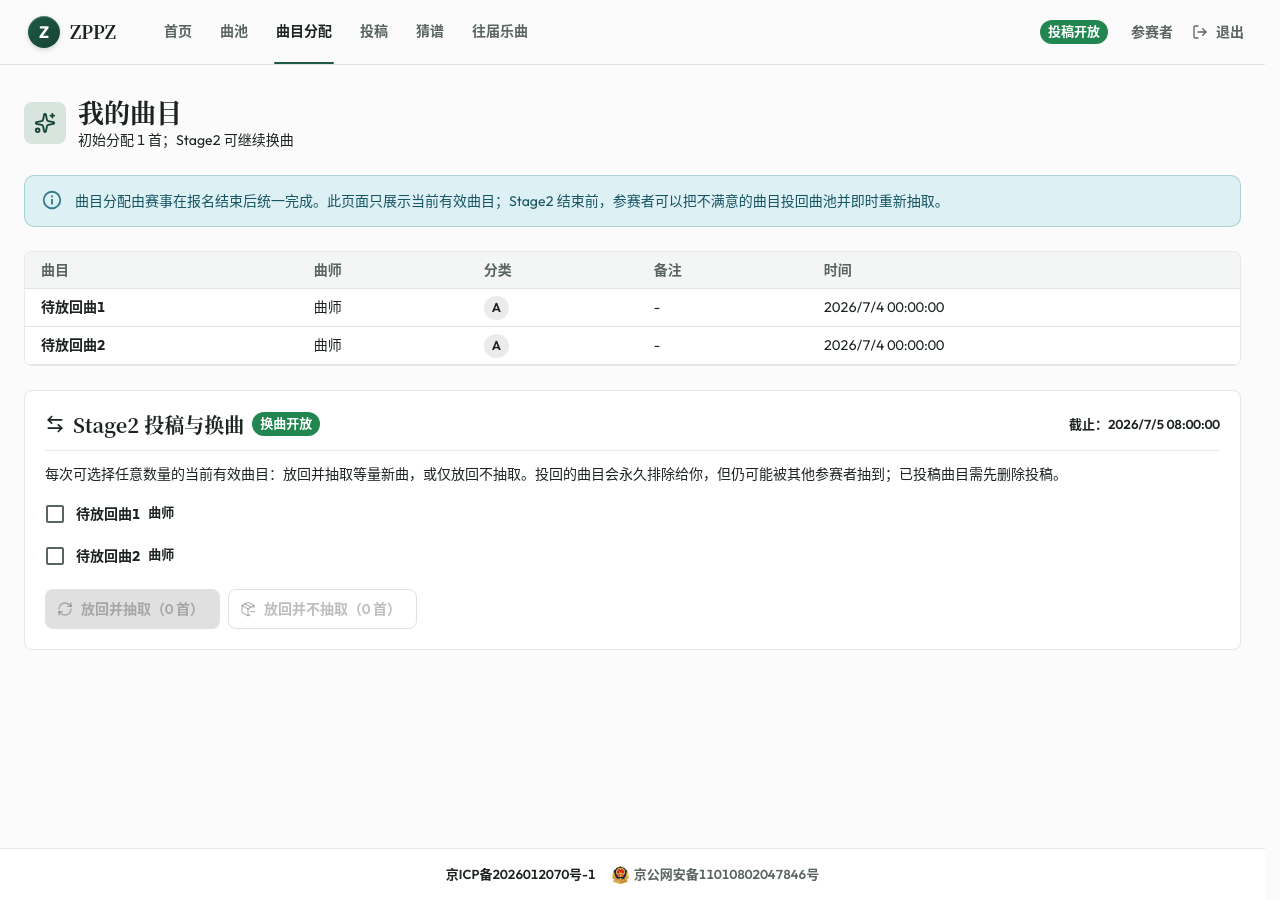
Test case: Material application shell › lets participants return songs without drawing replacements
Check: the heading "Stage2 投稿与换曲" is shown, box [73,411,244,438]
Click the checkbox labelled "待放回曲1 曲师" at (109, 514), box [43,502,174,526]
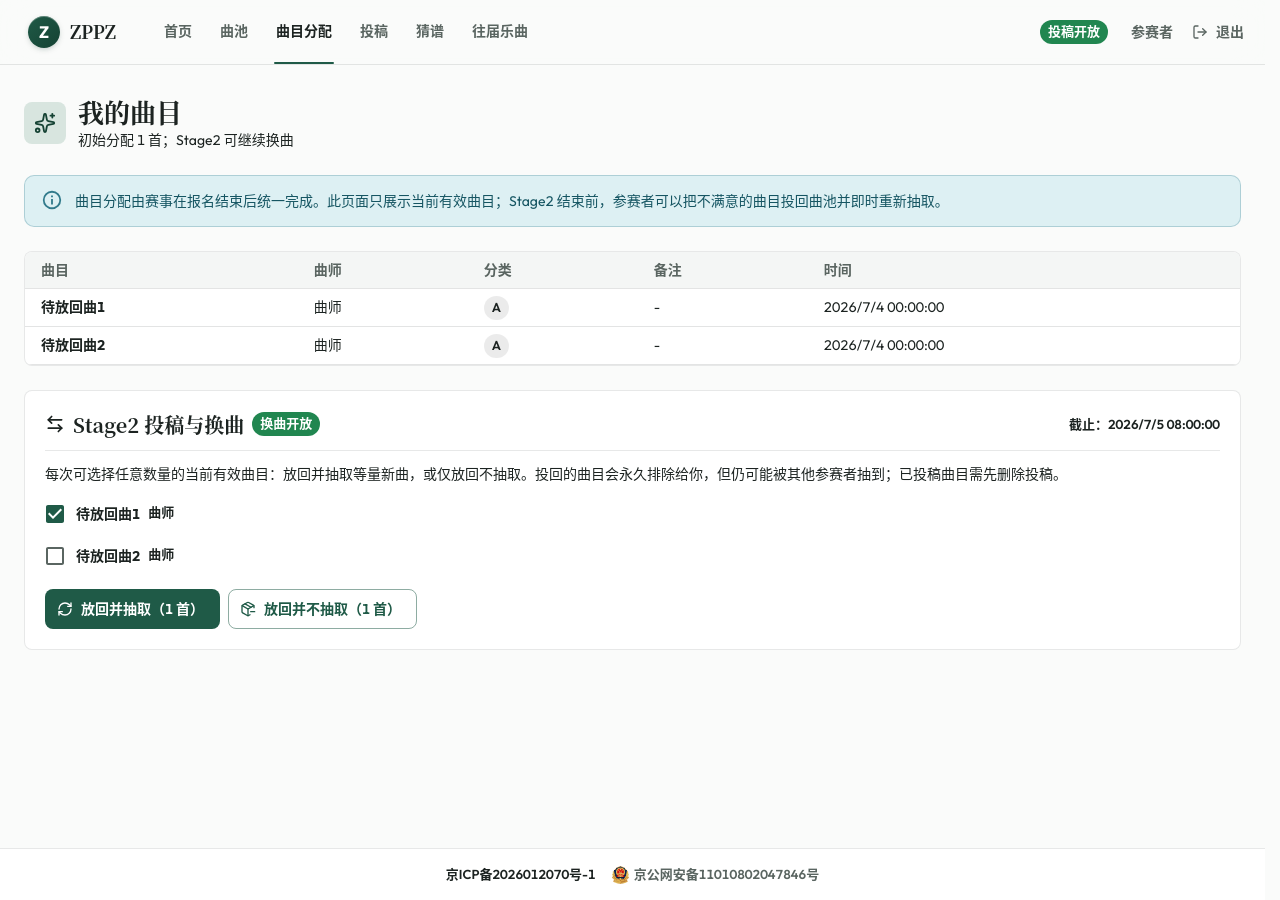
Click the button "放回并不抽取（1 首）" at (322, 609), box [228,589,417,629]
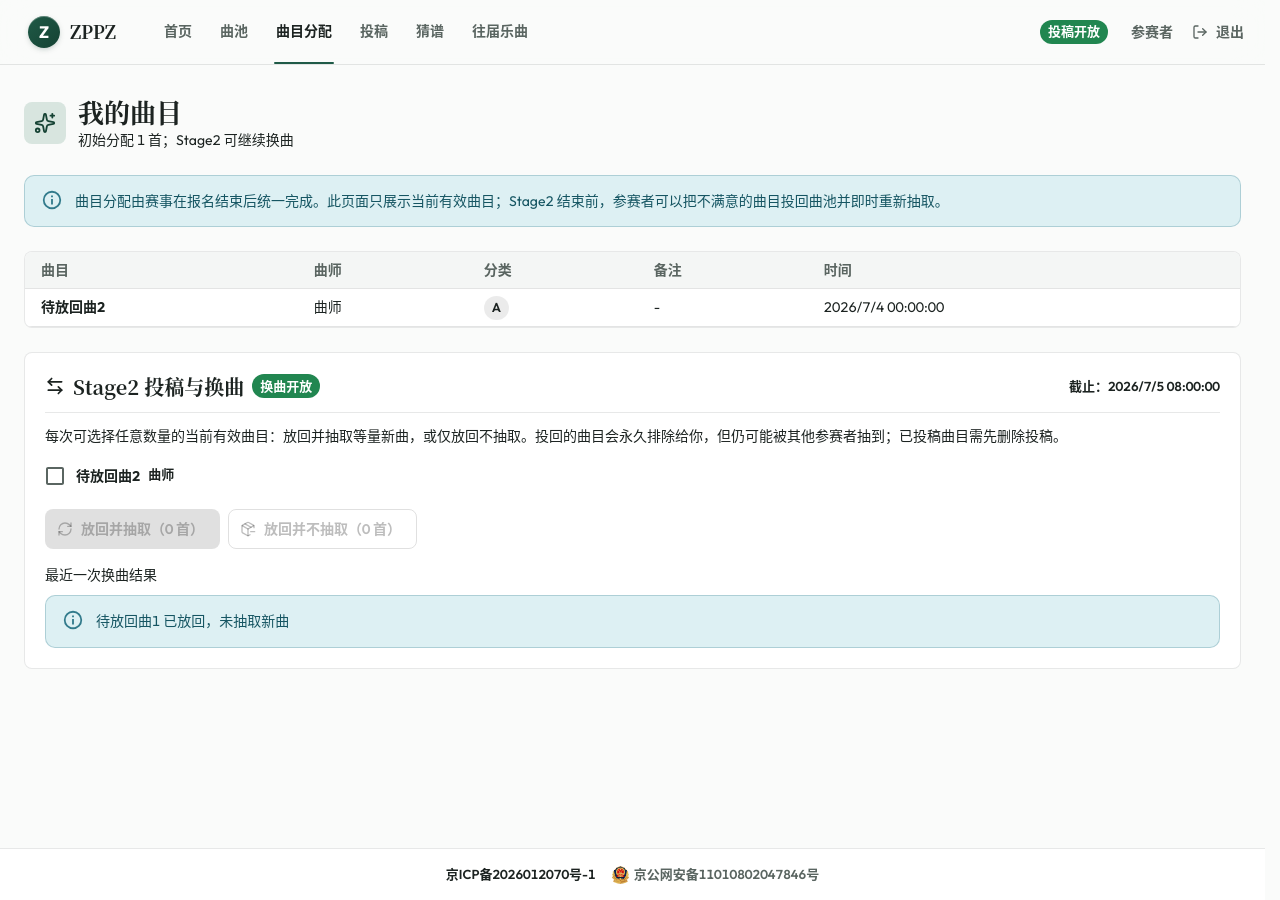
Check: the text "待放回曲1 已放回，未抽取新曲" is shown, box [96,612,289,630]
